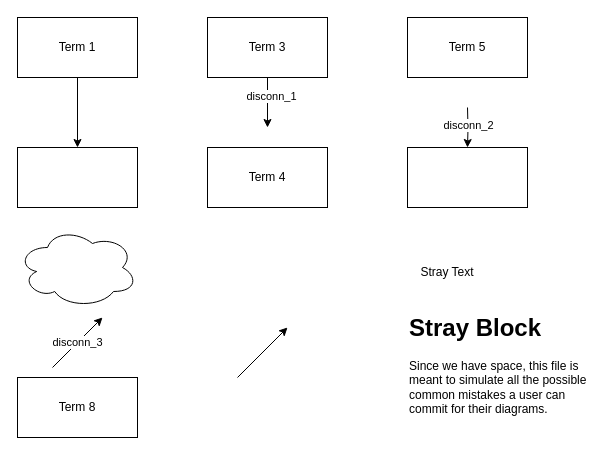
Image size: 605x455. Some labels were removed from this diagram. Here are the shapes that lost their labels. From the top down, the centre of each, then its label:
(77,177): Term 2
(467,177): Term 6
(77,267): Term 7
